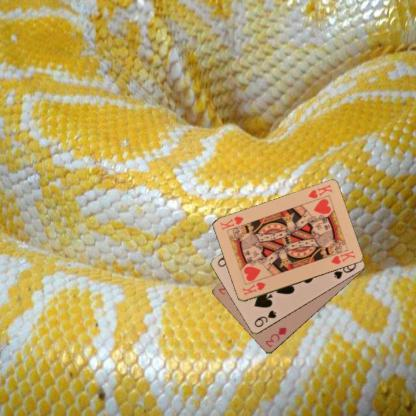3d: (262, 325, 288, 349)
9s: (252, 308, 278, 329)
Kh: (305, 182, 333, 200), (239, 280, 267, 297)
